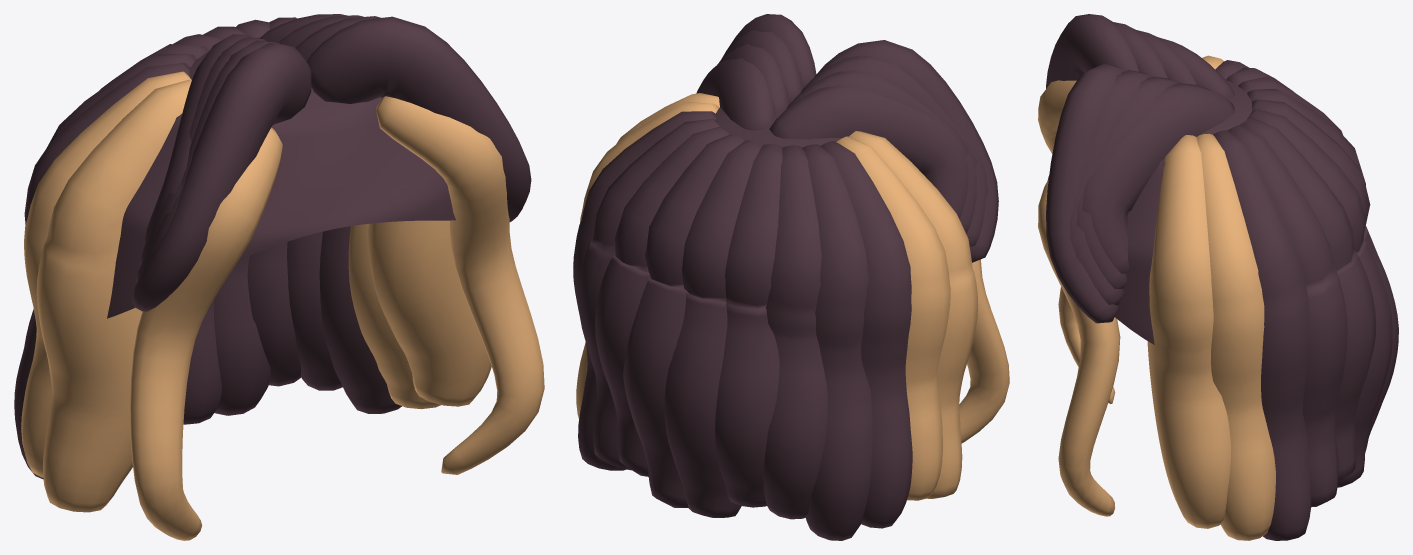
File: studio_lob_medium.glb
3 views of the same model, side by side, from view 1: azimuth 30°, elevation 25°; view 2: azimuth 150°, elevation 25°; view 3: azimuth 270°, elevation 25° (orthographic). The views are drawn at different scales.
Visible parts, largest first — view 1: lob; view 2: lob; view 3: lob.
Boxes of the visible parts, box(x1,y1,x2,y2) form: lob: box(14, 14, 544, 540); lob: box(573, 14, 1009, 540); lob: box(1038, 14, 1398, 540).
Bounding box in the file's own units: 0.5773 × 0.5928 × 0.4543.
